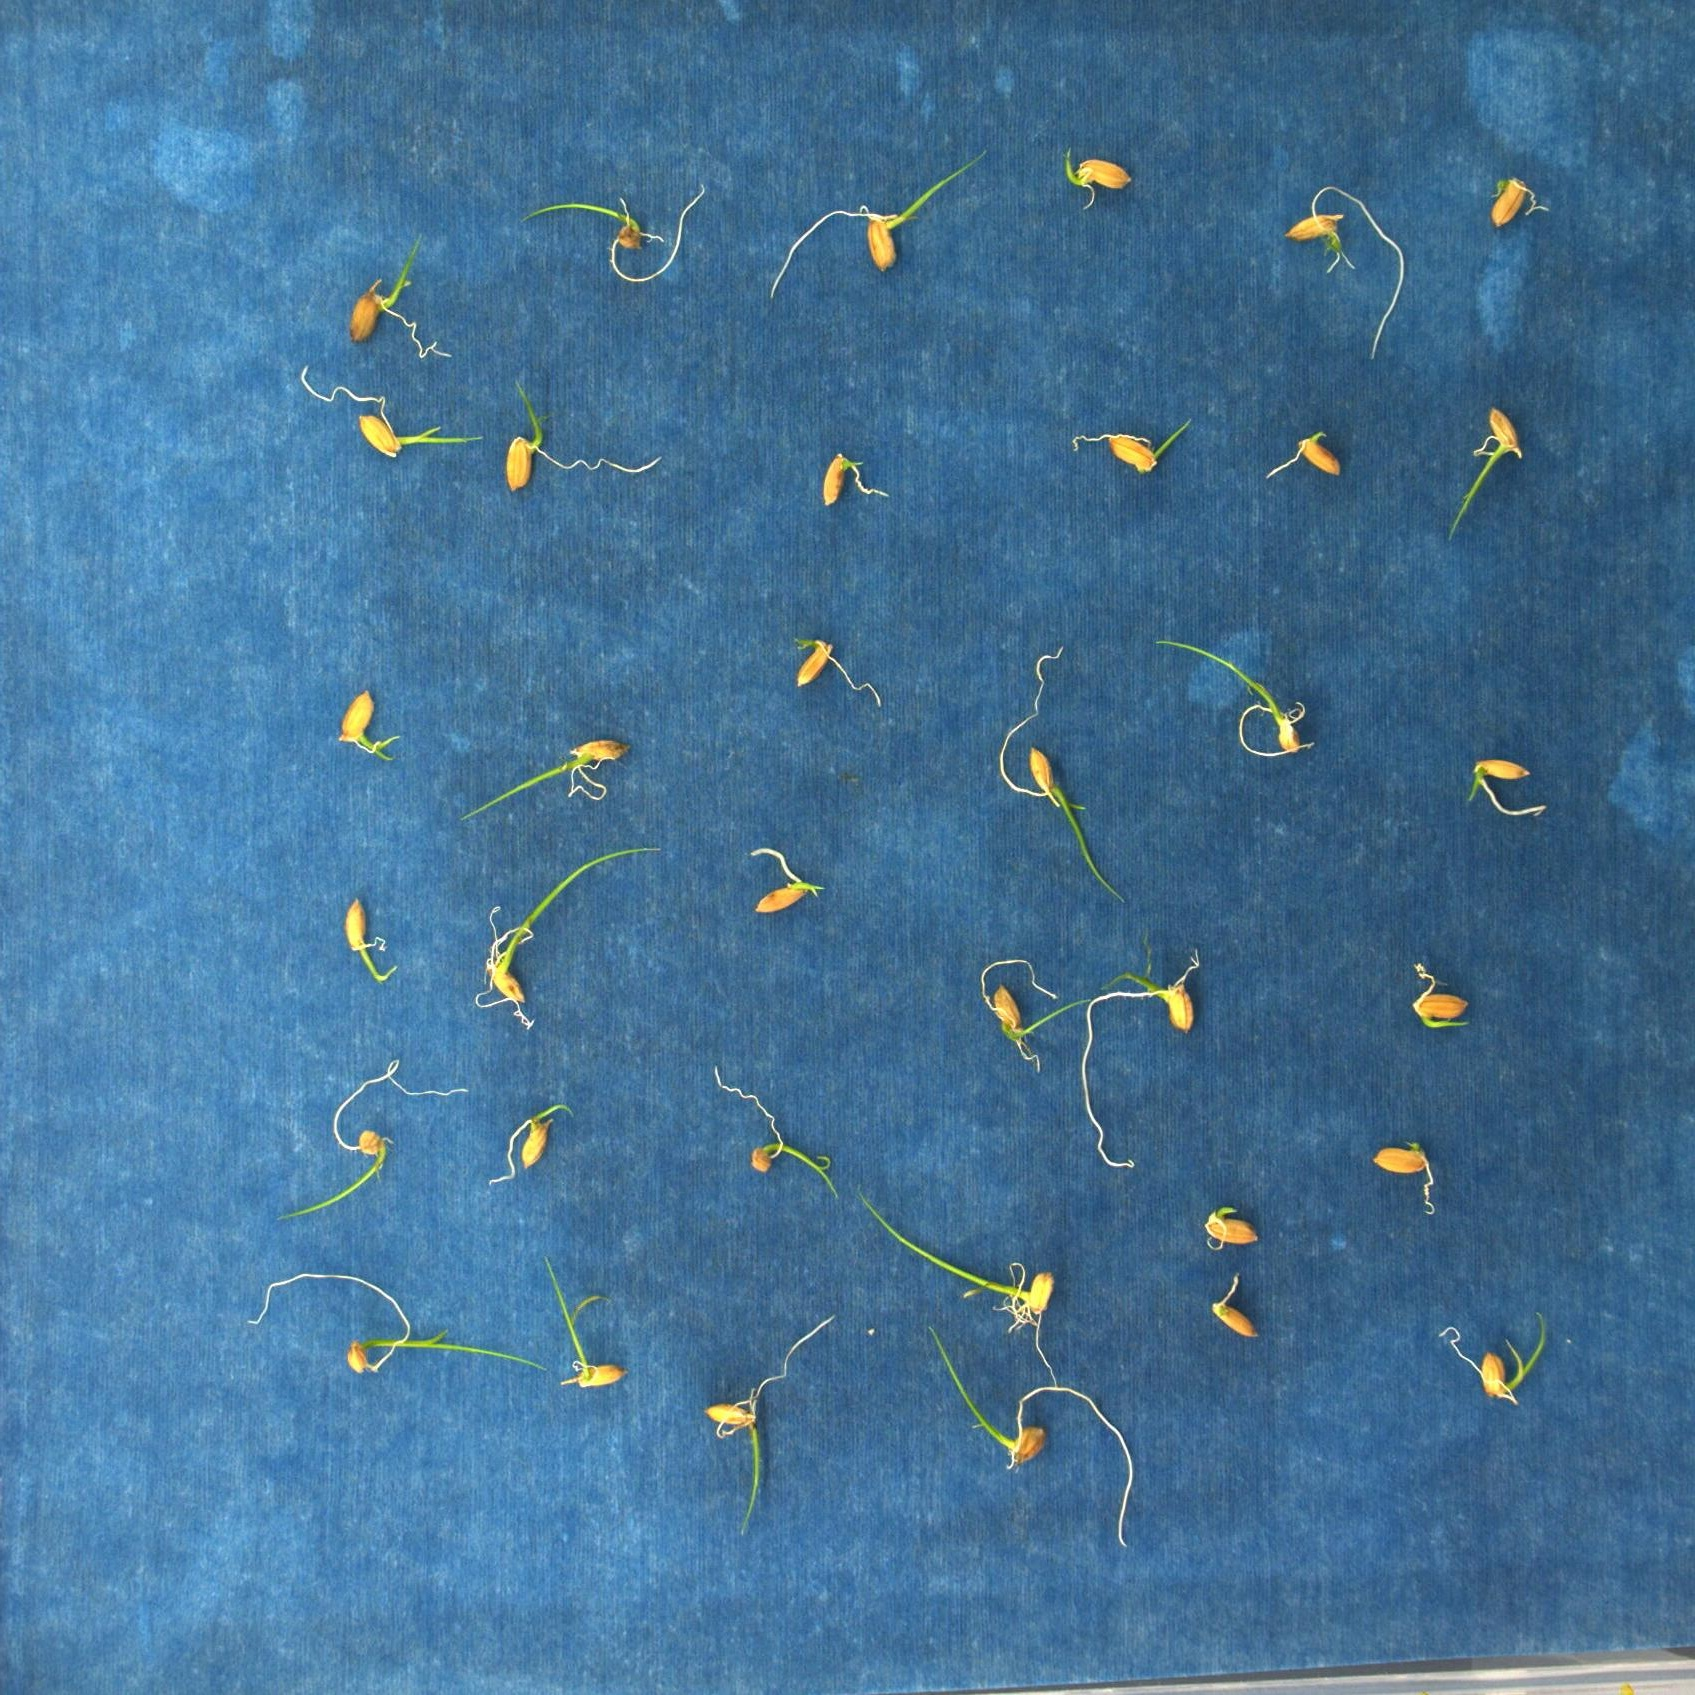not sprout: (1371, 1139, 1434, 1217), (823, 453, 889, 508), (1212, 1273, 1257, 1340)
sprout: (927, 1326, 1135, 1549), (860, 1192, 1059, 1388), (473, 844, 661, 1031), (1000, 647, 1128, 903), (771, 151, 989, 298), (278, 1059, 470, 1225), (245, 1271, 551, 1374), (702, 1315, 837, 1537), (1080, 948, 1198, 1169), (1285, 186, 1405, 362), (1153, 640, 1315, 757), (712, 1063, 841, 1203), (522, 185, 705, 282), (504, 380, 663, 492), (300, 363, 484, 458), (461, 740, 633, 821), (348, 231, 452, 362), (979, 958, 1094, 1076), (543, 1257, 629, 1388), (1447, 407, 1524, 542), (1437, 1312, 1548, 1406), (487, 1102, 574, 1187), (1073, 418, 1194, 473), (792, 636, 885, 708), (750, 847, 826, 913), (1465, 757, 1548, 816), (343, 896, 397, 983), (338, 688, 402, 761), (1063, 144, 1132, 210), (1411, 962, 1471, 1029), (1265, 432, 1344, 478), (1492, 177, 1549, 227), (1205, 1208, 1260, 1253)
